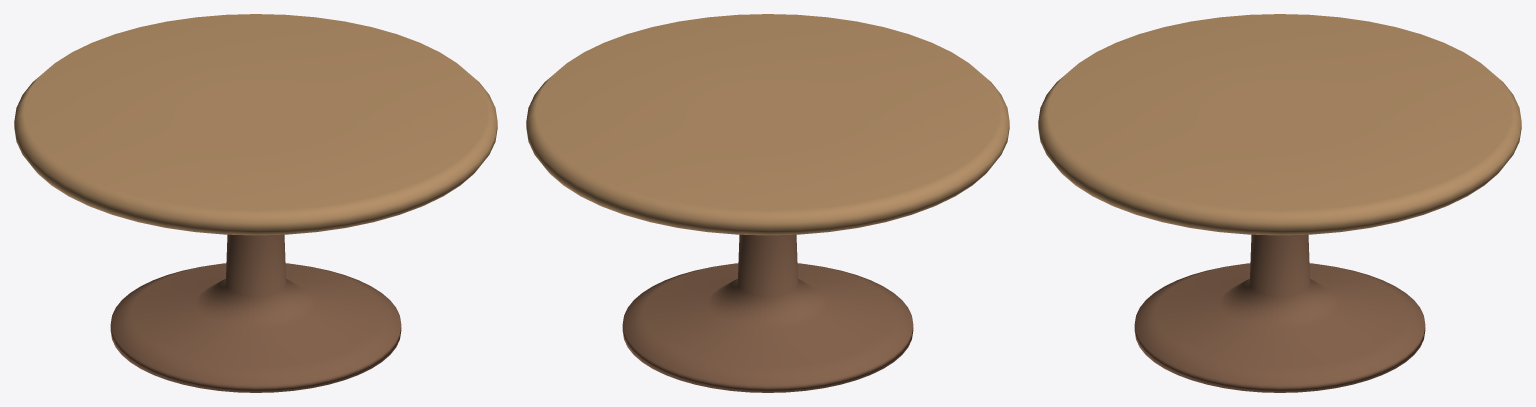
Rendered from cafetable.glb.
3 views of the same model, side by side, from view 1: azimuth 30°, elevation 25°; view 2: azimuth 150°, elevation 25°; view 3: azimuth 270°, elevation 25° (orthographic).
Visible parts, largest first — view 1: solid-round-tabletop, continuous-turned-pedestal; view 2: solid-round-tabletop, continuous-turned-pedestal; view 3: solid-round-tabletop, continuous-turned-pedestal.
Part boxes in pixels (bbox=[...]): solid-round-tabletop: bbox=[14, 14, 497, 235]; continuous-turned-pedestal: bbox=[110, 234, 401, 392]; solid-round-tabletop: bbox=[526, 14, 1009, 235]; continuous-turned-pedestal: bbox=[622, 234, 913, 392]; solid-round-tabletop: bbox=[1038, 14, 1521, 235]; continuous-turned-pedestal: bbox=[1134, 234, 1425, 392].
Size of the model in its own units: 1.2 by 0.6187 by 1.2.
